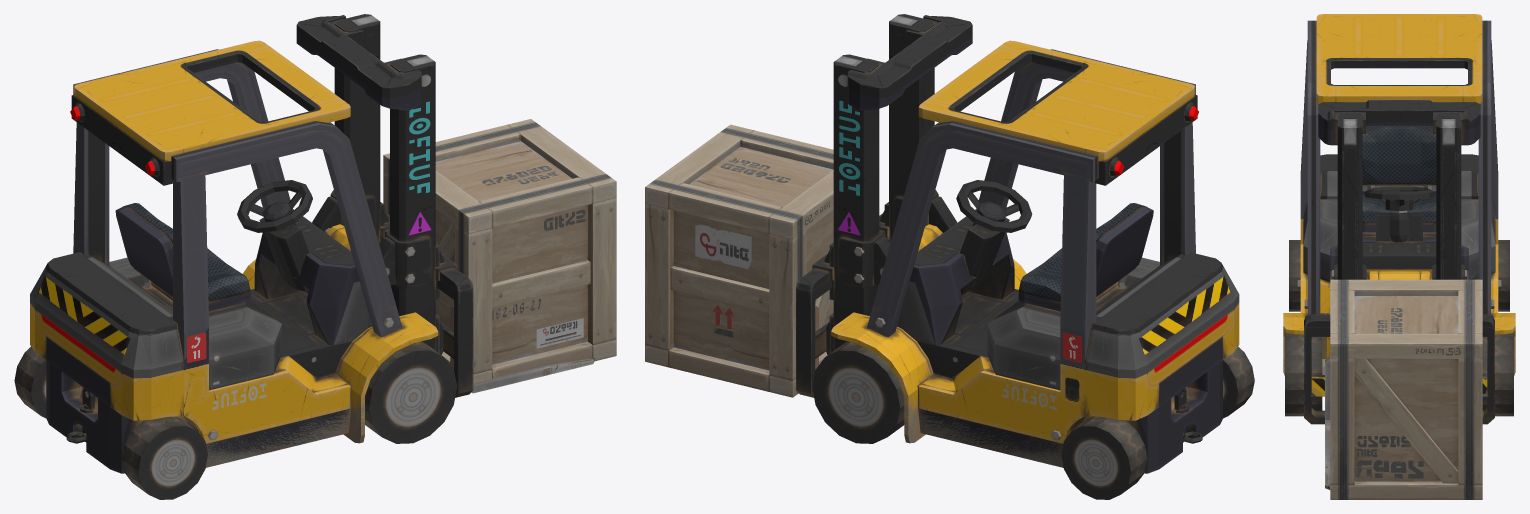
The model's file is WarehouseManager_07.obj.
3 views of the same model, side by side, from view 1: azimuth 30°, elevation 25°; view 2: azimuth 150°, elevation 25°; view 3: azimuth 270°, elevation 25° (orthographic). The views are drawn at different scales.
Bounding box in the file's own units: 3.1 × 2 × 1.37.
Materials: 6 (6 with a texture image).
